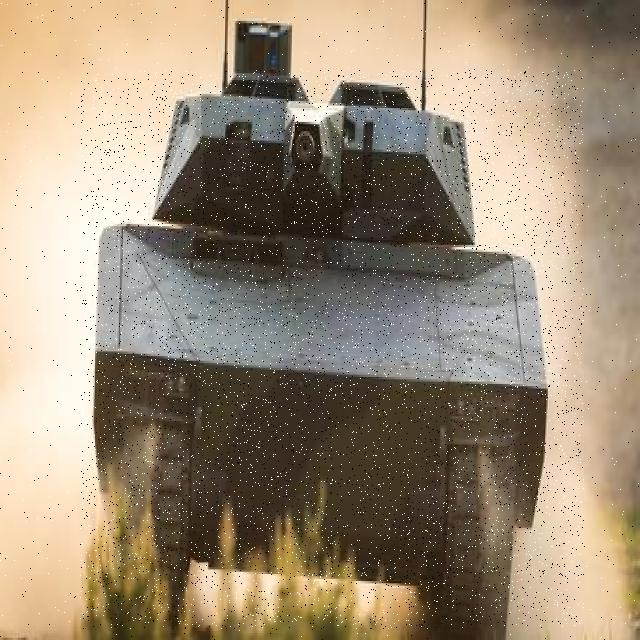MIL_MBT: (80, 71, 584, 629)
